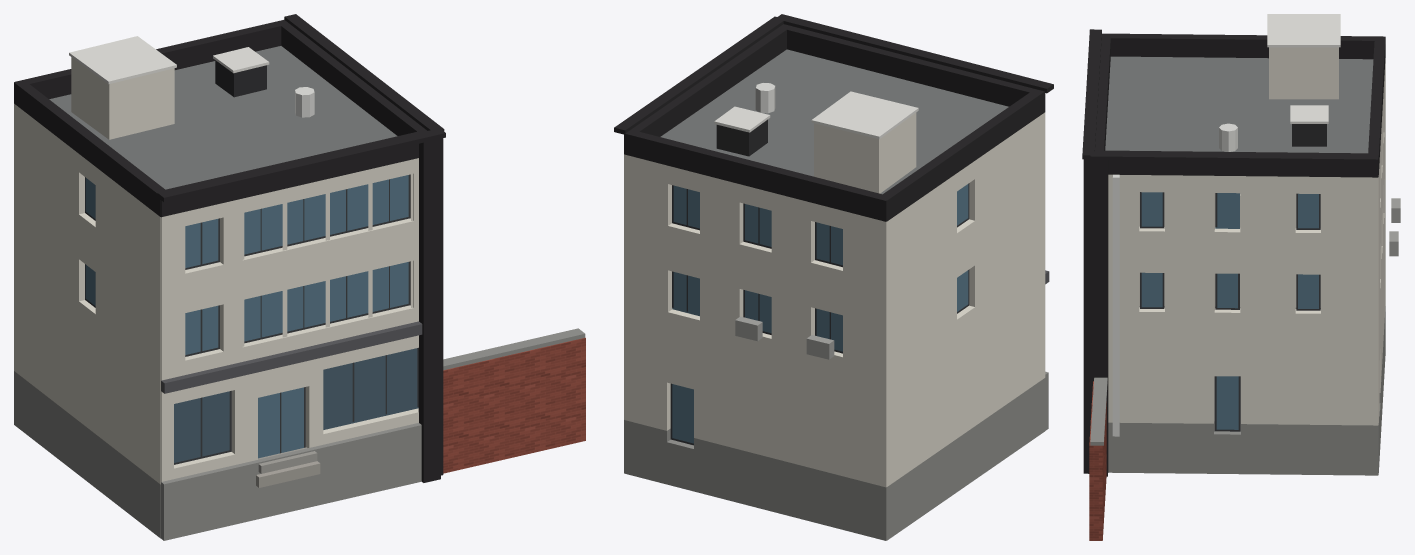
The picture shows the model from 3 angles, left to right: view 1: azimuth 30°, elevation 25°; view 2: azimuth 150°, elevation 25°; view 3: azimuth 270°, elevation 25°; orthographic projection. The views are drawn at different scales.
Visible parts, largest first — view 1: b32__cream-wall, b32__black-frame, b32__plinth-stone-wall, b32__roof, b32__glass, b32__brick-wall, b32__shop-glass, b32__trim, b32__sign-band, b32__frame, b32__door-glass, b32__dark (+2 smaller); view 2: b32__cream-wall, b32__black-frame, b32__plinth-stone-wall, b32__roof, b32__glass, b32__trim, b32__frame, b32__dark, b32__door-glass, b32__ac, b32__white-pipe; view 3: b32__cream-wall, b32__black-frame, b32__roof, b32__plinth-stone-wall, b32__glass, b32__trim, b32__white-pipe, b32__brick-wall, b32__frame, b32__door-glass, b32__dark, b32__ac.
Boxes of the visible parts, x1,y1,x2,y2 form: b32__cream-wall: (14,57,418,484); b32__black-frame: (14,14,445,482); b32__plinth-stone-wall: (14,328,585,540); b32__roof: (49,46,397,189); b32__glass: (85,175,408,354); b32__brick-wall: (443,337,585,473); b32__shop-glass: (174,348,418,462); b32__trim: (69,36,269,84); b32__sign-band: (161,321,422,393); b32__frame: (85,174,418,464); b32__door-glass: (258,387,303,458); b32__dark: (215,60,266,97); b32__cream-wall: (624,112,1045,487); b32__black-frame: (614,14,1053,221); b32__plinth-stone-wall: (624,371,1048,540); b32__roof: (660,49,1008,194); b32__glass: (672,184,968,351); b32__trim: (714,91,918,139); b32__frame: (670,183,969,445); b32__dark: (716,119,767,156); b32__door-glass: (672,384,693,443); b32__ac: (735,316,834,359); b32__white-pipe: (755,83,775,113); b32__cream-wall: (1108,47,1385,425); b32__black-frame: (1082,29,1385,476); b32__roof: (1105,56,1373,153); b32__plinth-stone-wall: (1090,306,1385,475); b32__glass: (1141,192,1318,308); b32__trim: (1267,14,1340,123); b32__white-pipe: (1112,123,1237,436); b32__brick-wall: (1089,381,1106,540); b32__frame: (1140,192,1320,431); b32__door-glass: (1216,376,1238,429); b32__dark: (1292,124,1326,146); b32__ac: (1389,198,1400,256).
Size of the model in its own units: 16.76 by 14.5 by 11.8.
Materials: 17 (1 with a texture image).
